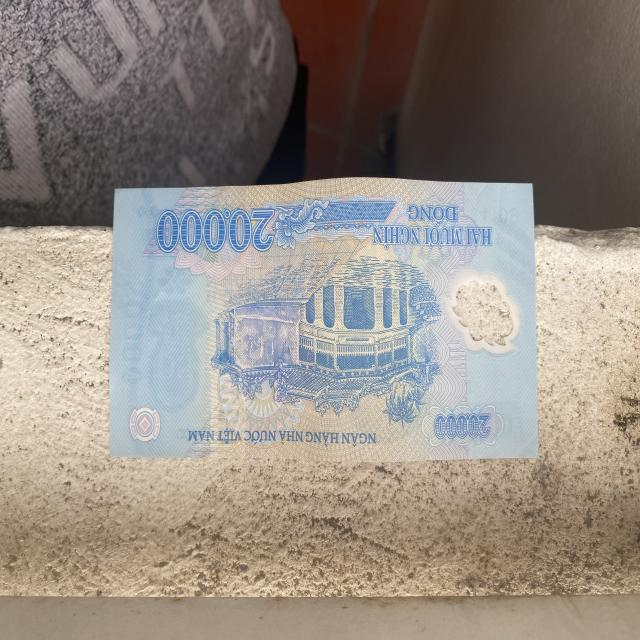20 000 VND: (108, 175, 540, 461)
